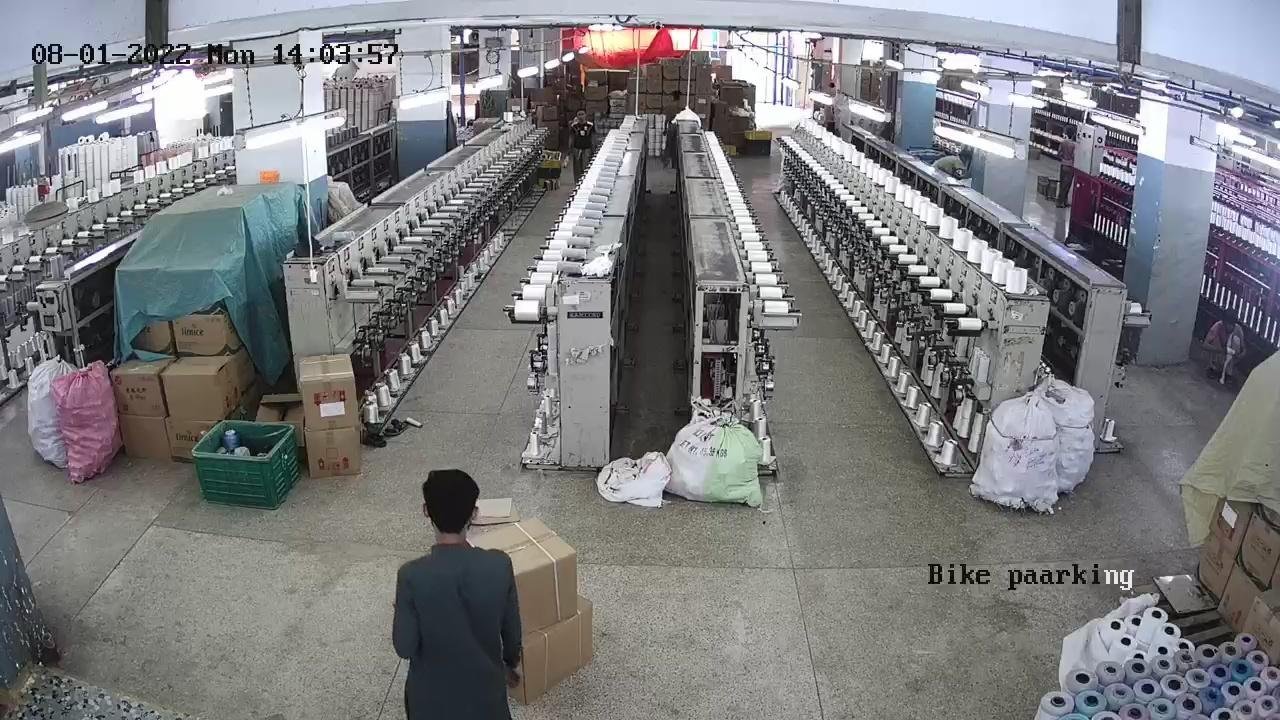person: (396, 470, 519, 718), (572, 107, 597, 163)
